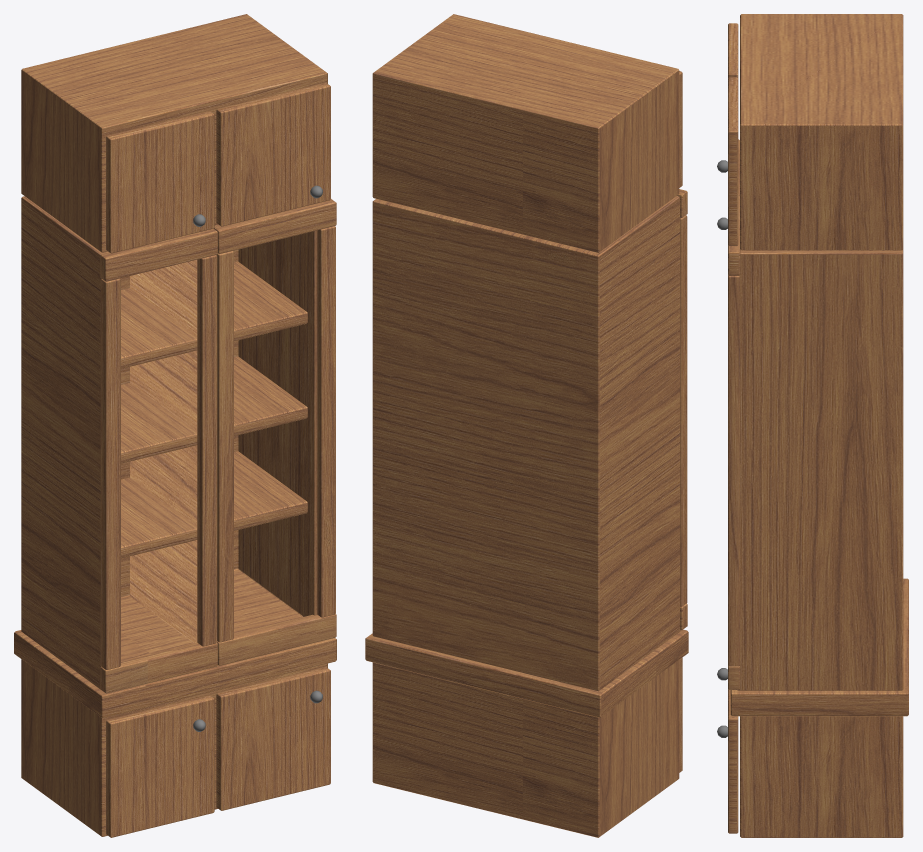
Rendered from SM_shelf_04.fbx.
3 views of the same model, side by side, from view 1: azimuth 30°, elevation 25°; view 2: azimuth 150°, elevation 25°; view 3: azimuth 270°, elevation 25° (orthographic).
Visible parts, largest first — view 1: shelf01; view 2: shelf01; view 3: shelf01.
Part boxes in pixels (x1,y1,x2,y2): shelf01: (14, 14, 336, 837); shelf01: (365, 14, 688, 837); shelf01: (717, 14, 908, 837).
Bounding box in the file's own units: 39.49 × 114 × 27.71.
2 materials, 1 textured.
